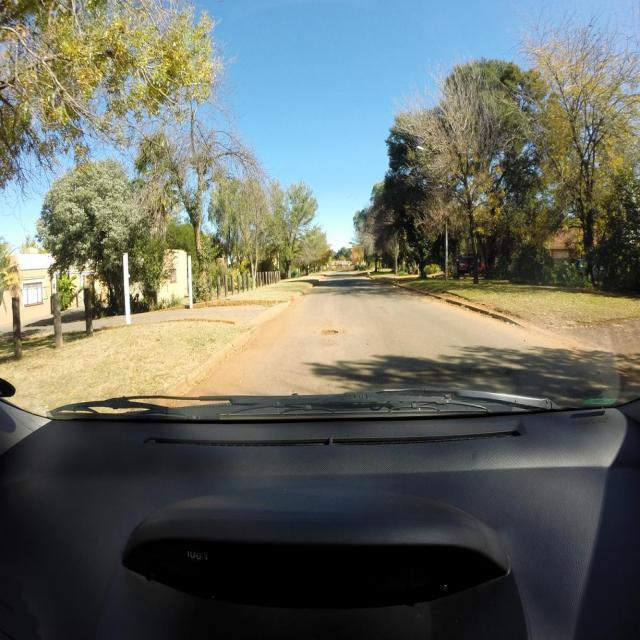pothole: (320, 329, 339, 336)
